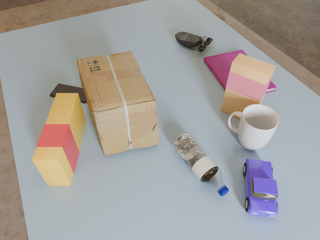book: (204, 50, 276, 93)
bottle: (173, 133, 229, 196)
box: (77, 51, 159, 156), (32, 93, 86, 186), (221, 54, 276, 119)
cup: (228, 104, 279, 150)
mouse: (175, 32, 213, 52)
phone: (50, 84, 86, 103)
toy_car: (243, 159, 278, 218)
